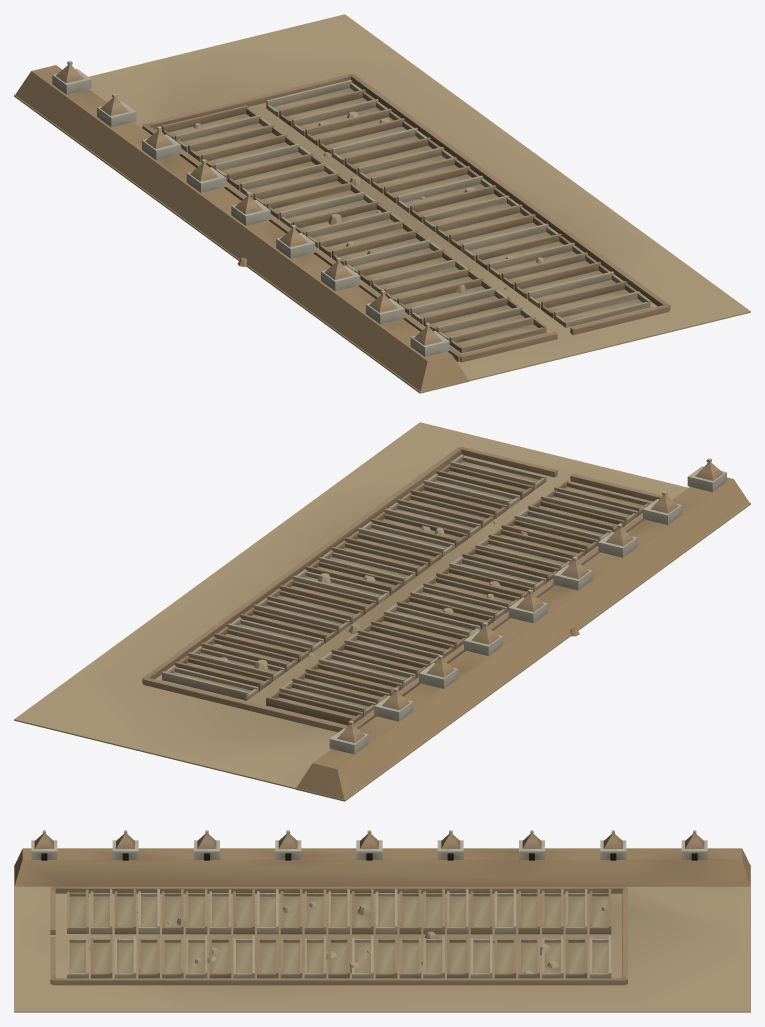
Rendered from deir-el-medina-ruin.glb.
3 views of the same model, one above another, from view 1: azimuth 30°, elevation 25°; view 2: azimuth 150°, elevation 25°; view 3: azimuth 270°, elevation 25° (orthographic). The views are drawn at different scales.
Visible parts, largest first — view 1: p0_slope, p2_houses, p1_walls, p3_tombs; view 2: p0_slope, p2_houses, p1_walls, p3_tombs; view 3: p0_slope, p2_houses, p1_walls, p3_tombs.
Part boxes in pixels (left/top/right/bottom): p0_slope: left=14, top=14, right=750, bottom=393; p2_houses: left=162, top=80, right=650, bottom=353; p1_walls: left=142, top=73, right=670, bottom=362; p3_tombs: left=52, top=61, right=449, bottom=356; p0_slope: left=14, top=422, right=750, bottom=801; p2_houses: left=162, top=454, right=650, bottom=725; p1_walls: left=142, top=446, right=662, bottom=732; p3_tombs: left=329, top=458, right=726, bottom=754; p0_slope: left=14, top=848, right=750, bottom=1012; p2_houses: left=67, top=889, right=611, bottom=978; p1_walls: left=50, top=886, right=627, bottom=985; p3_tombs: left=31, top=830, right=707, bottom=860.
Size of the model in its own units: 81.18 by 11.87 by 170.
